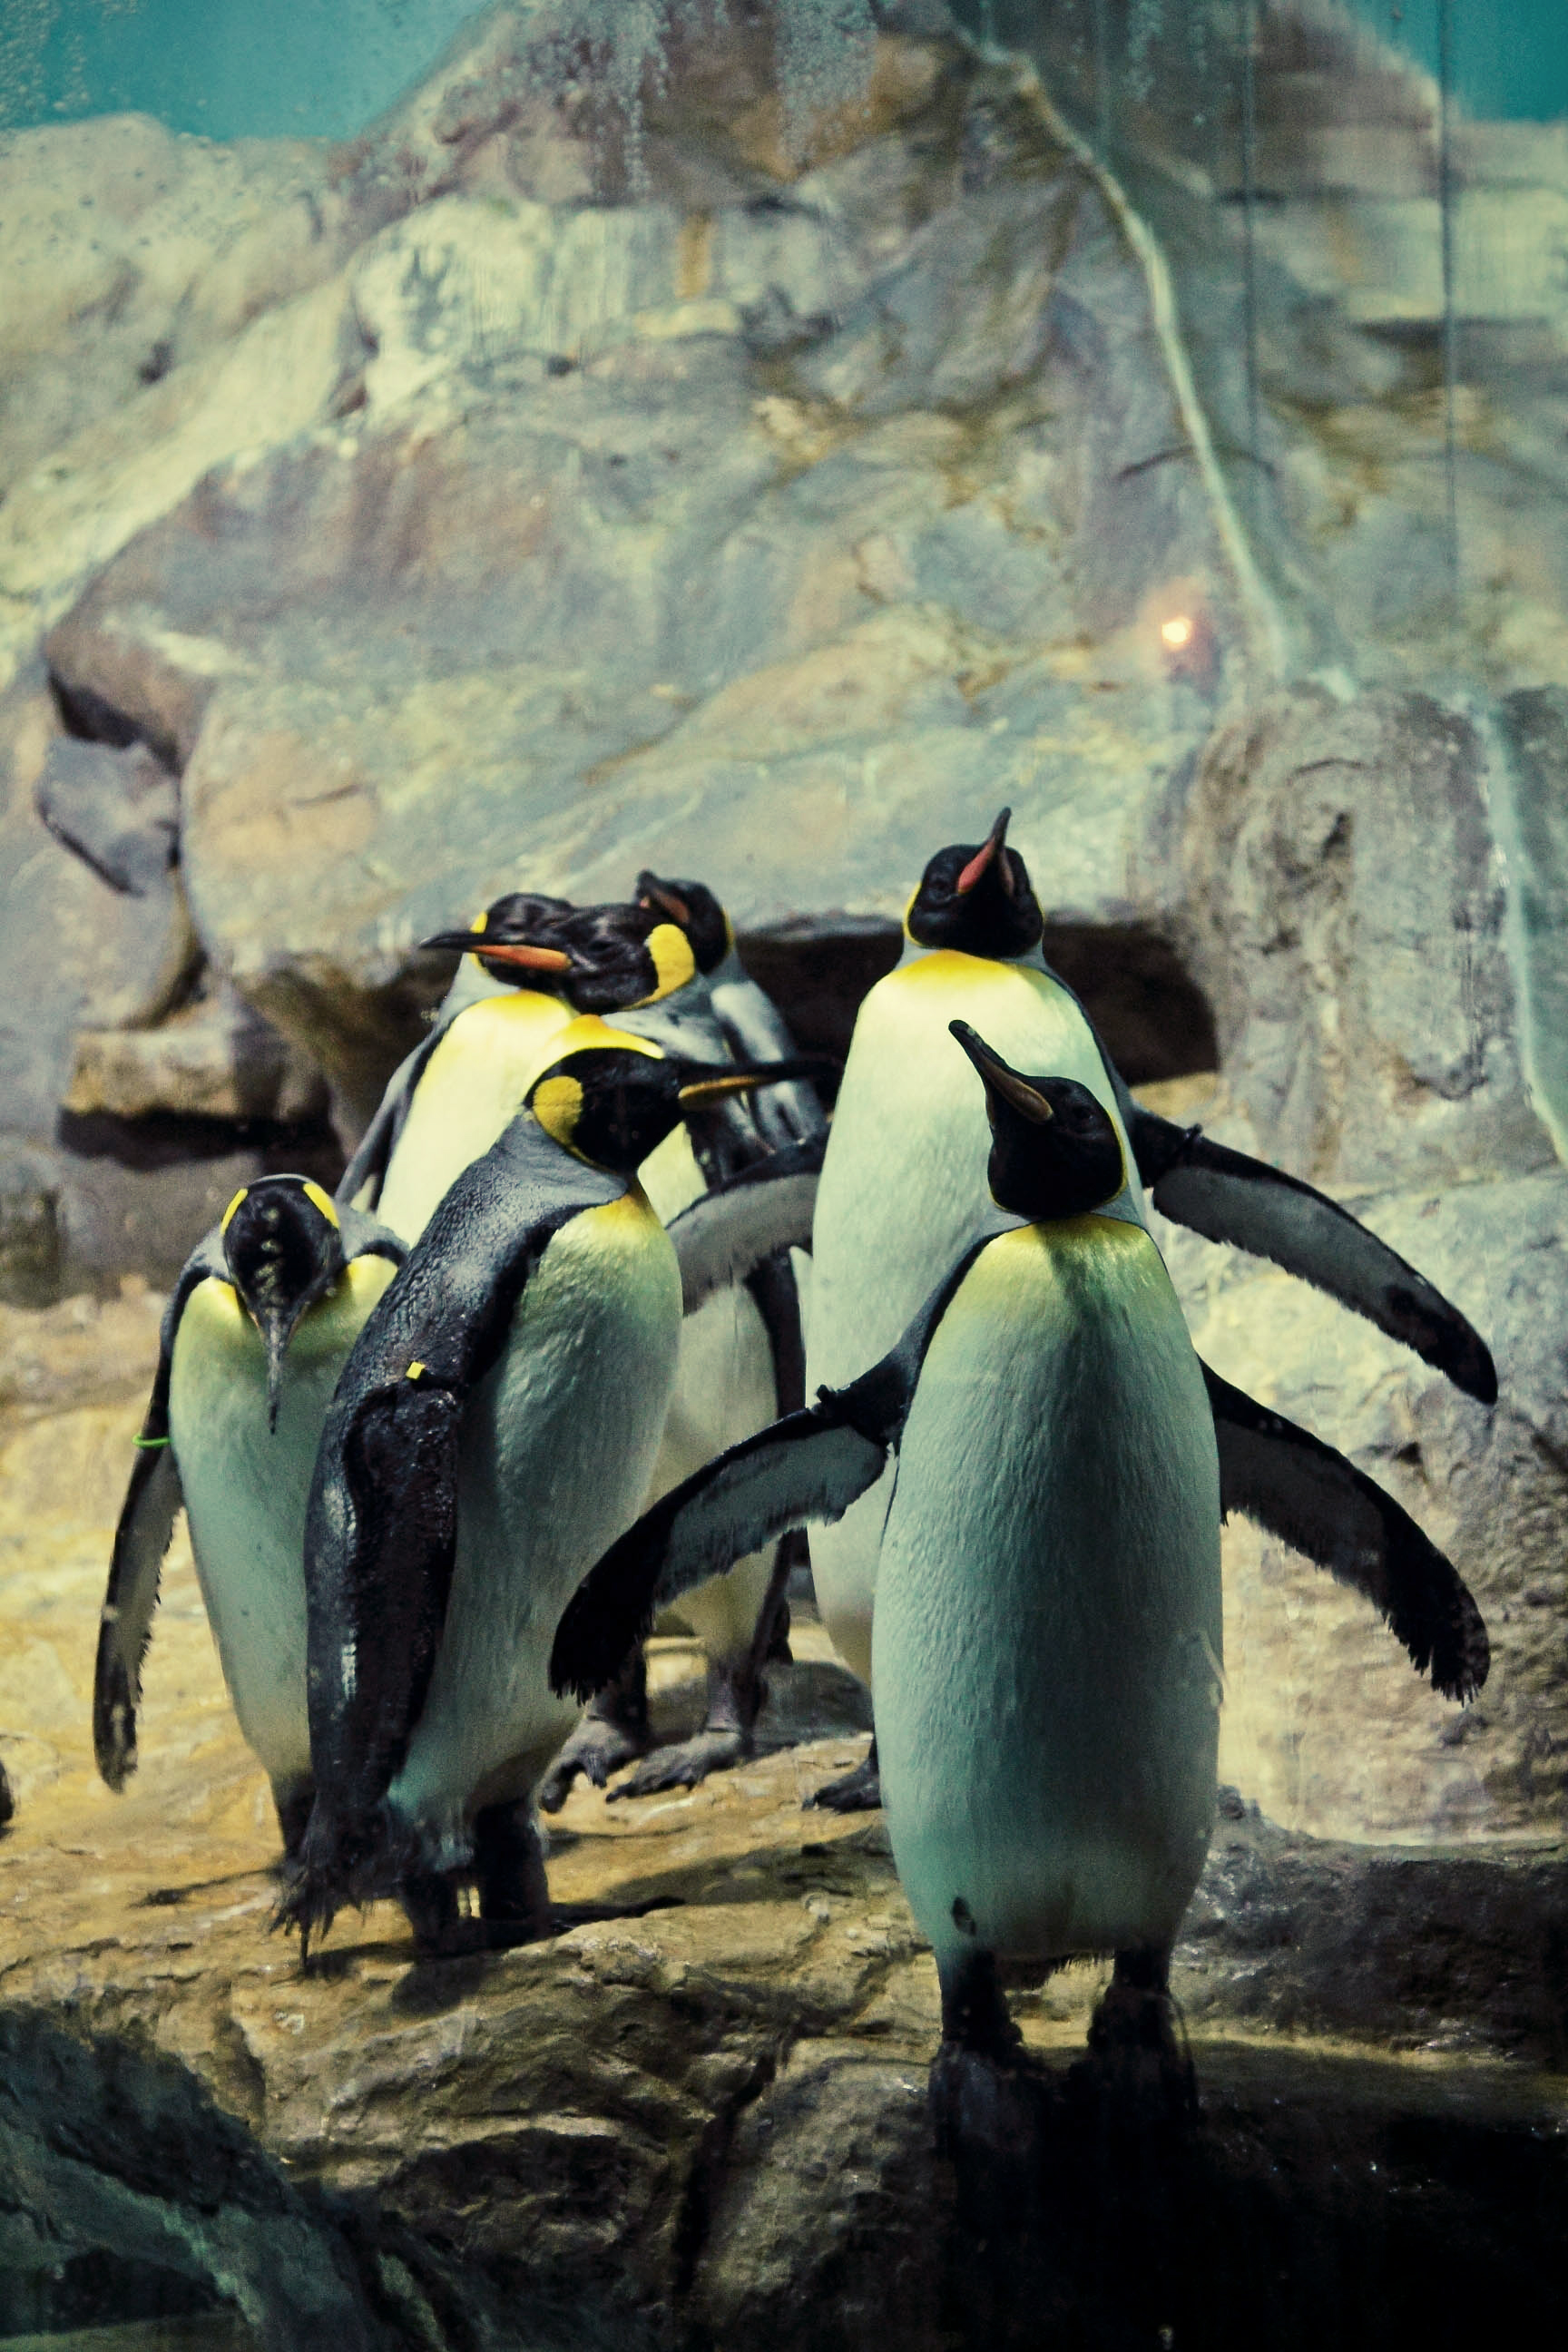penguin: (574, 1031, 1491, 2147), (322, 1031, 824, 1983)
